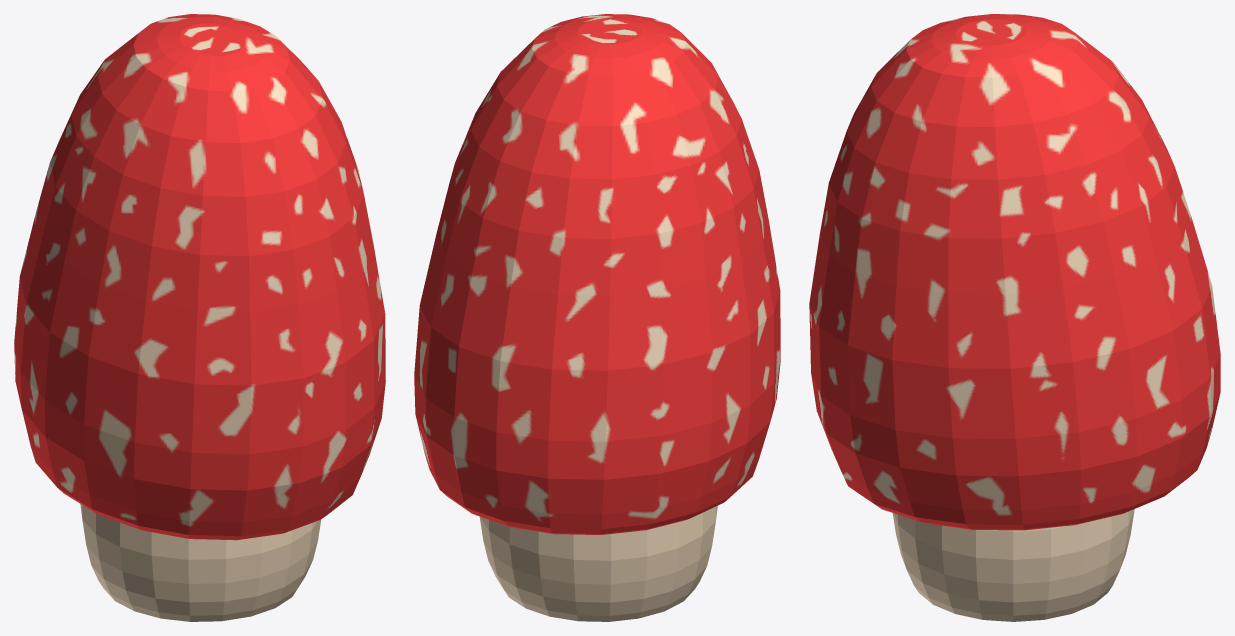
Rendered from Mushroom_Small_02.fbx.
3 renders of one model, left to right at view 1: azimuth 30°, elevation 25°; view 2: azimuth 150°, elevation 25°; view 3: azimuth 270°, elevation 25°, orthographic.
Visible parts, largest first — view 1: small_sized_mshrm_02; view 2: small_sized_mshrm_02; view 3: small_sized_mshrm_02.
Part boxes in pixels (<box>): small_sized_mshrm_02: <box>14,14,385,621</box>; small_sized_mshrm_02: <box>414,14,780,621</box>; small_sized_mshrm_02: <box>809,14,1220,621</box>.
Size of the model in its own units: 2.92 by 4.94 by 3.35.
1 material, 1 textured.
